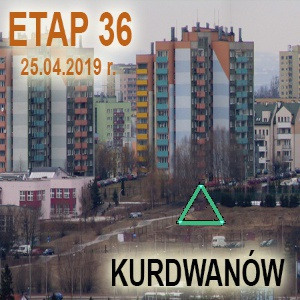triangle: (175, 181, 230, 231)
